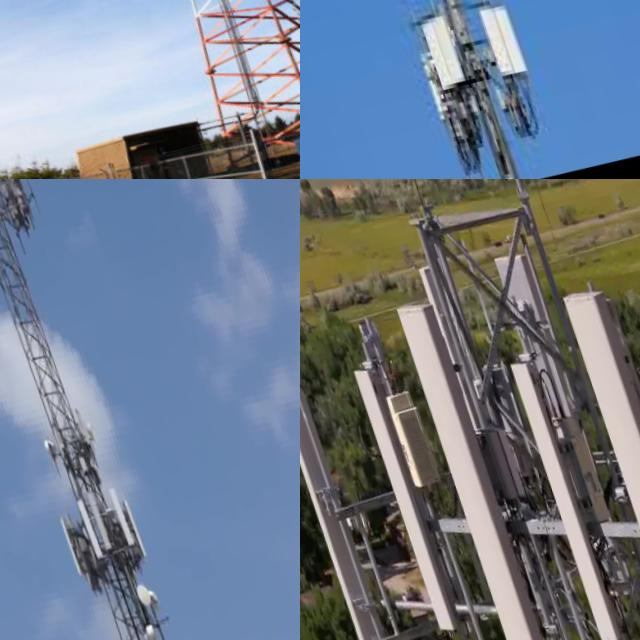GSM Antenna: (381, 276, 568, 640), (489, 338, 631, 640), (486, 237, 608, 520), (342, 347, 460, 630), (551, 266, 640, 640), (300, 296, 393, 640), (405, 11, 449, 99), (422, 5, 459, 87), (483, 0, 522, 72), (470, 0, 506, 75), (74, 478, 110, 550), (61, 492, 98, 562), (98, 483, 134, 553), (45, 509, 79, 576)
Microwave Antenna: (125, 575, 148, 608), (135, 577, 156, 610), (129, 617, 152, 640), (77, 414, 94, 443), (34, 431, 52, 458)
